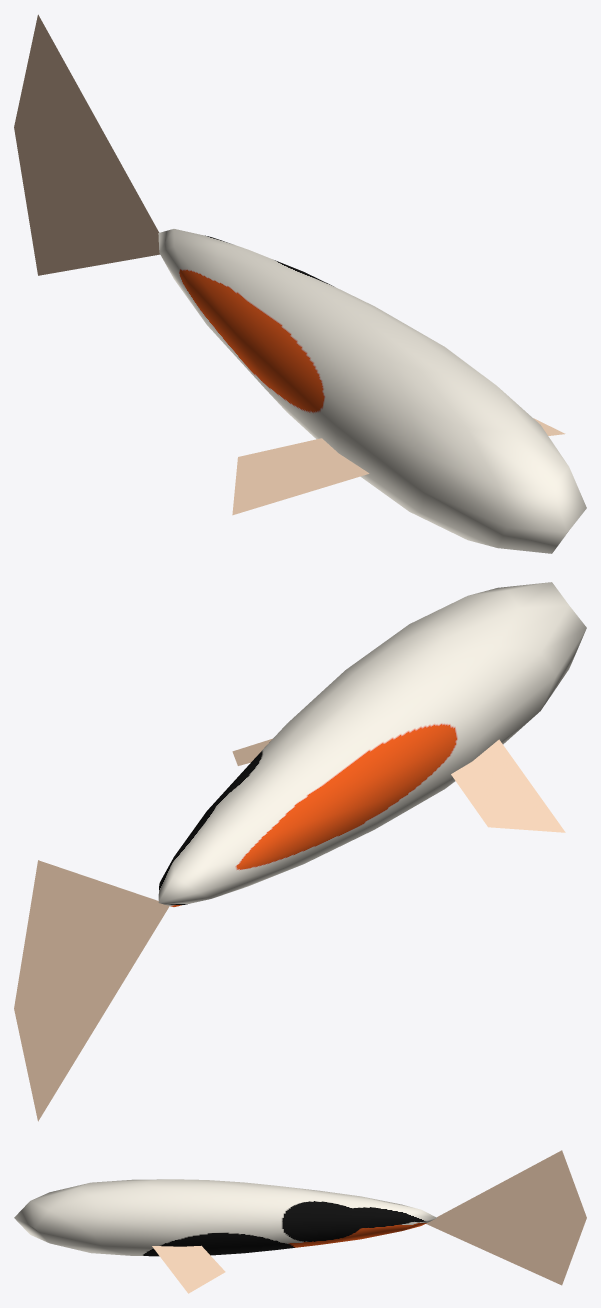
The model's file is Koi_1.glb.
The picture shows the model from 3 angles, top to bottom: view 1: azimuth 30°, elevation 25°; view 2: azimuth 150°, elevation 25°; view 3: azimuth 270°, elevation 25°; orthographic projection. The views are drawn at different scales.
Visible parts, largest first — view 1: Koi_1, Tail; view 2: Koi_1, Tail; view 3: Koi_1, Tail.
Part boxes in pixels (bbox=[...]): Koi_1: bbox=[158, 229, 586, 553]; Tail: bbox=[14, 14, 159, 275]; Koi_1: bbox=[158, 582, 586, 906]; Tail: bbox=[14, 860, 169, 1121]; Koi_1: bbox=[14, 1179, 436, 1293]; Tail: bbox=[426, 1150, 586, 1285].
Size of the model in its own units: 0.16 by 0.12 by 0.46.
Materials: 2 (1 with a texture image).
